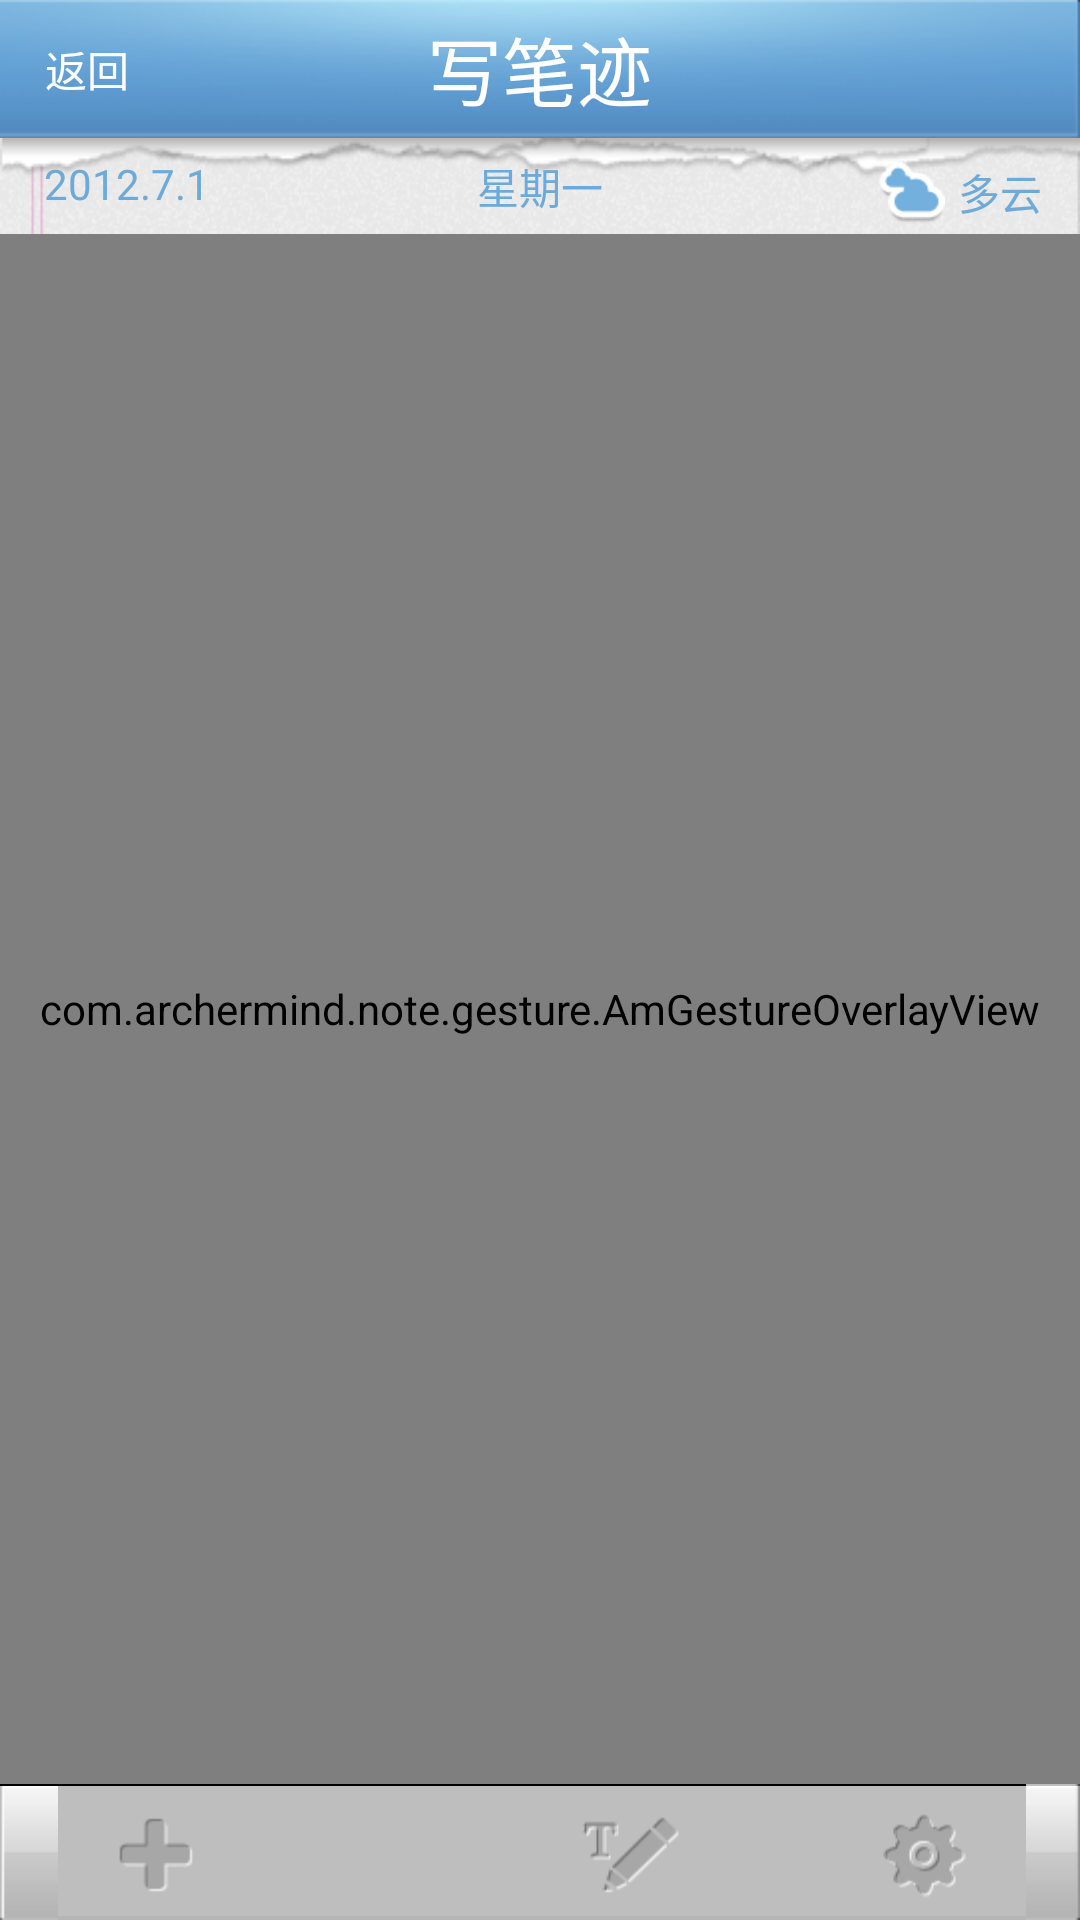

Point at icon controls on the screen. Image size 1080*1920, points as (x=x, y=y).
edit handwrite: (x=631, y=1855)
edit setting: (x=976, y=1847)
weather cloudy: (x=912, y=194)
